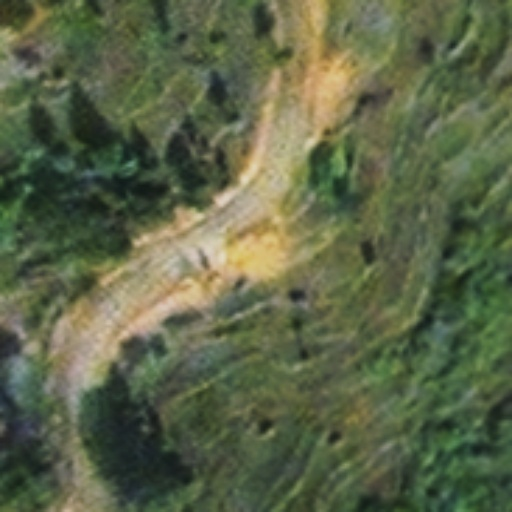landslide: (222, 209, 312, 280), (306, 46, 372, 137)
